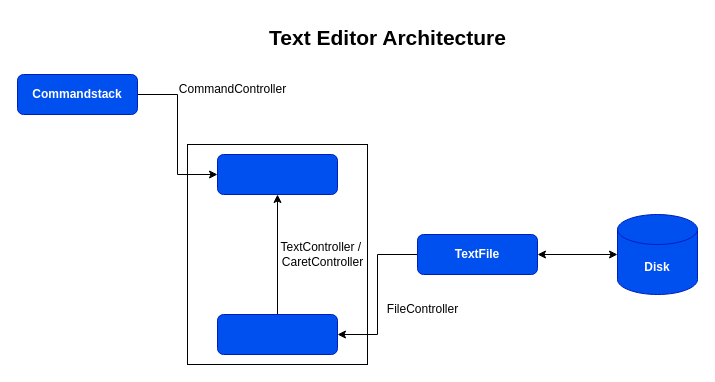
Some shapes in this 715 by 382 pixel diagram are drawn without their labels. The centre of each missing label's shape, as x and y in pixels:
"TextDocument" belongs at point (277, 334).
"TextView" belongs at point (277, 174).
